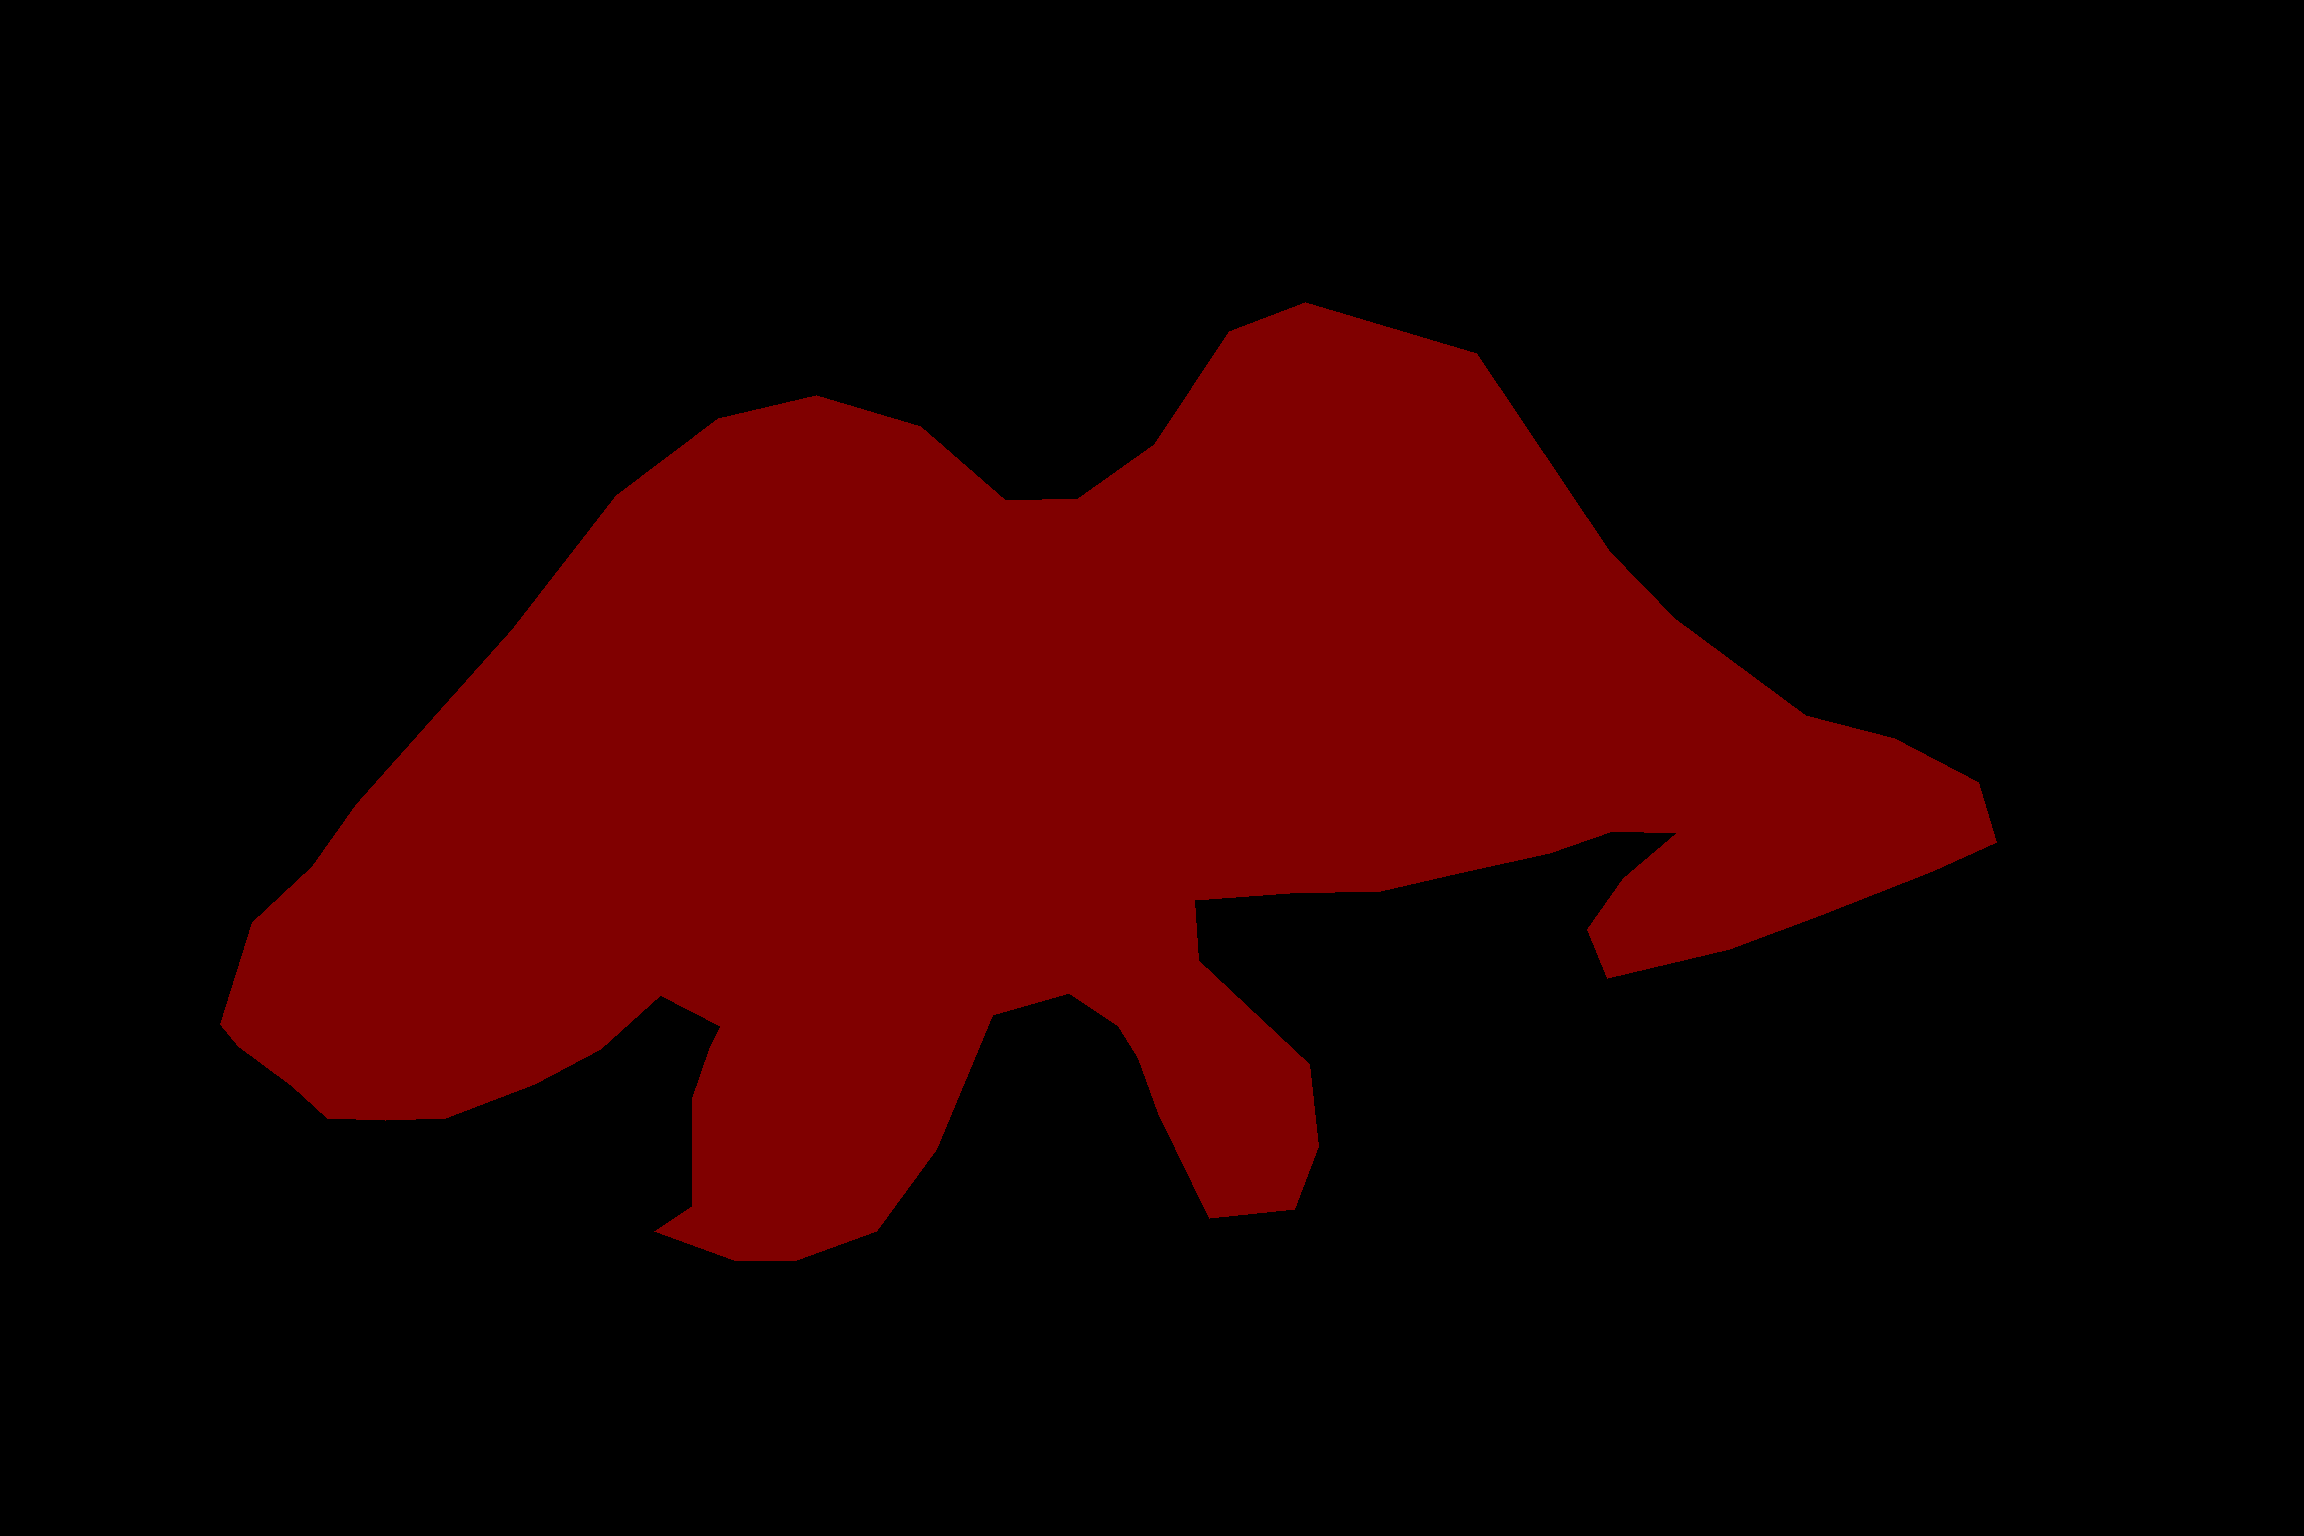fire: (219, 302, 1995, 1260)
